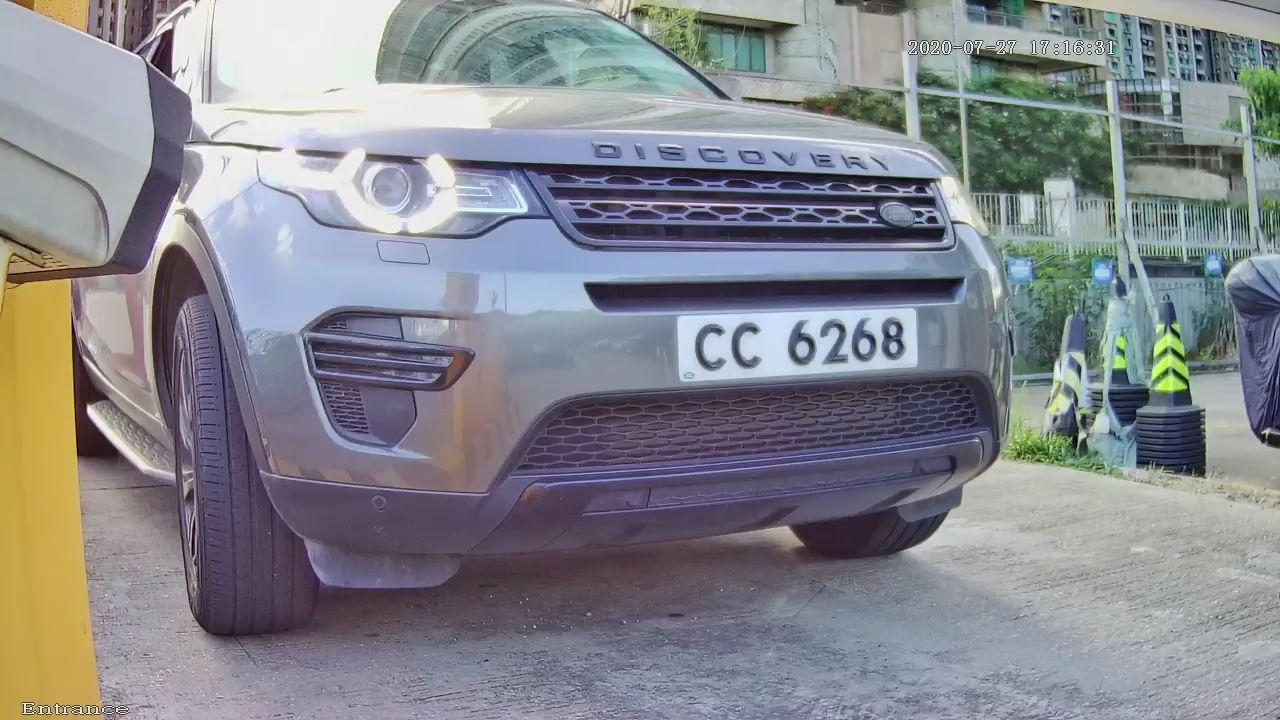privatecar: (81, 33, 1081, 618)
